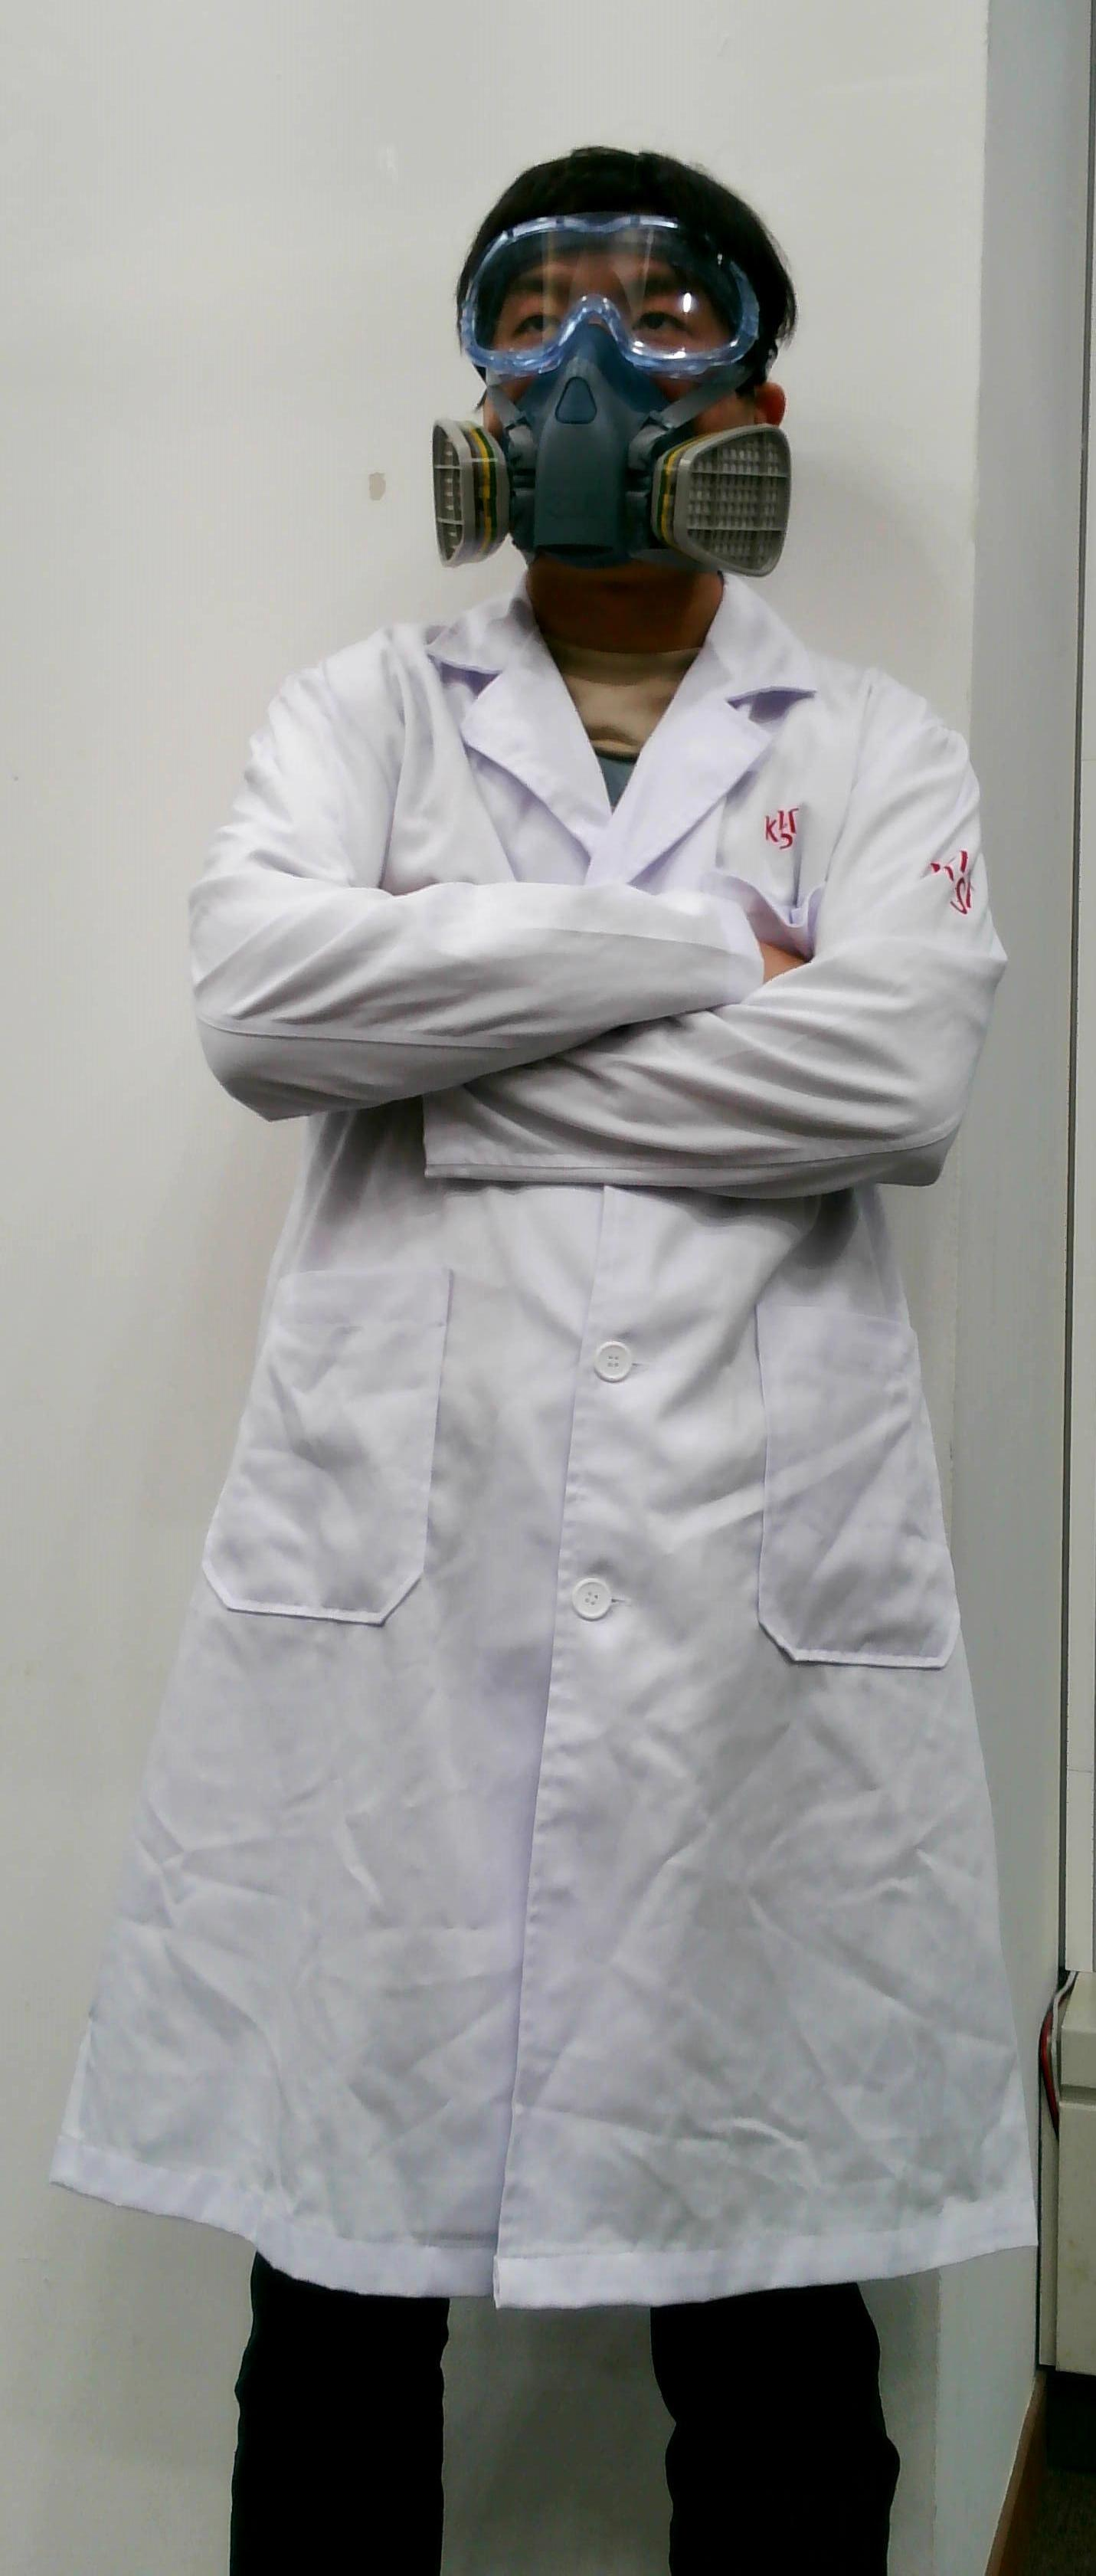lab_coat: (108, 652, 1070, 2326)
